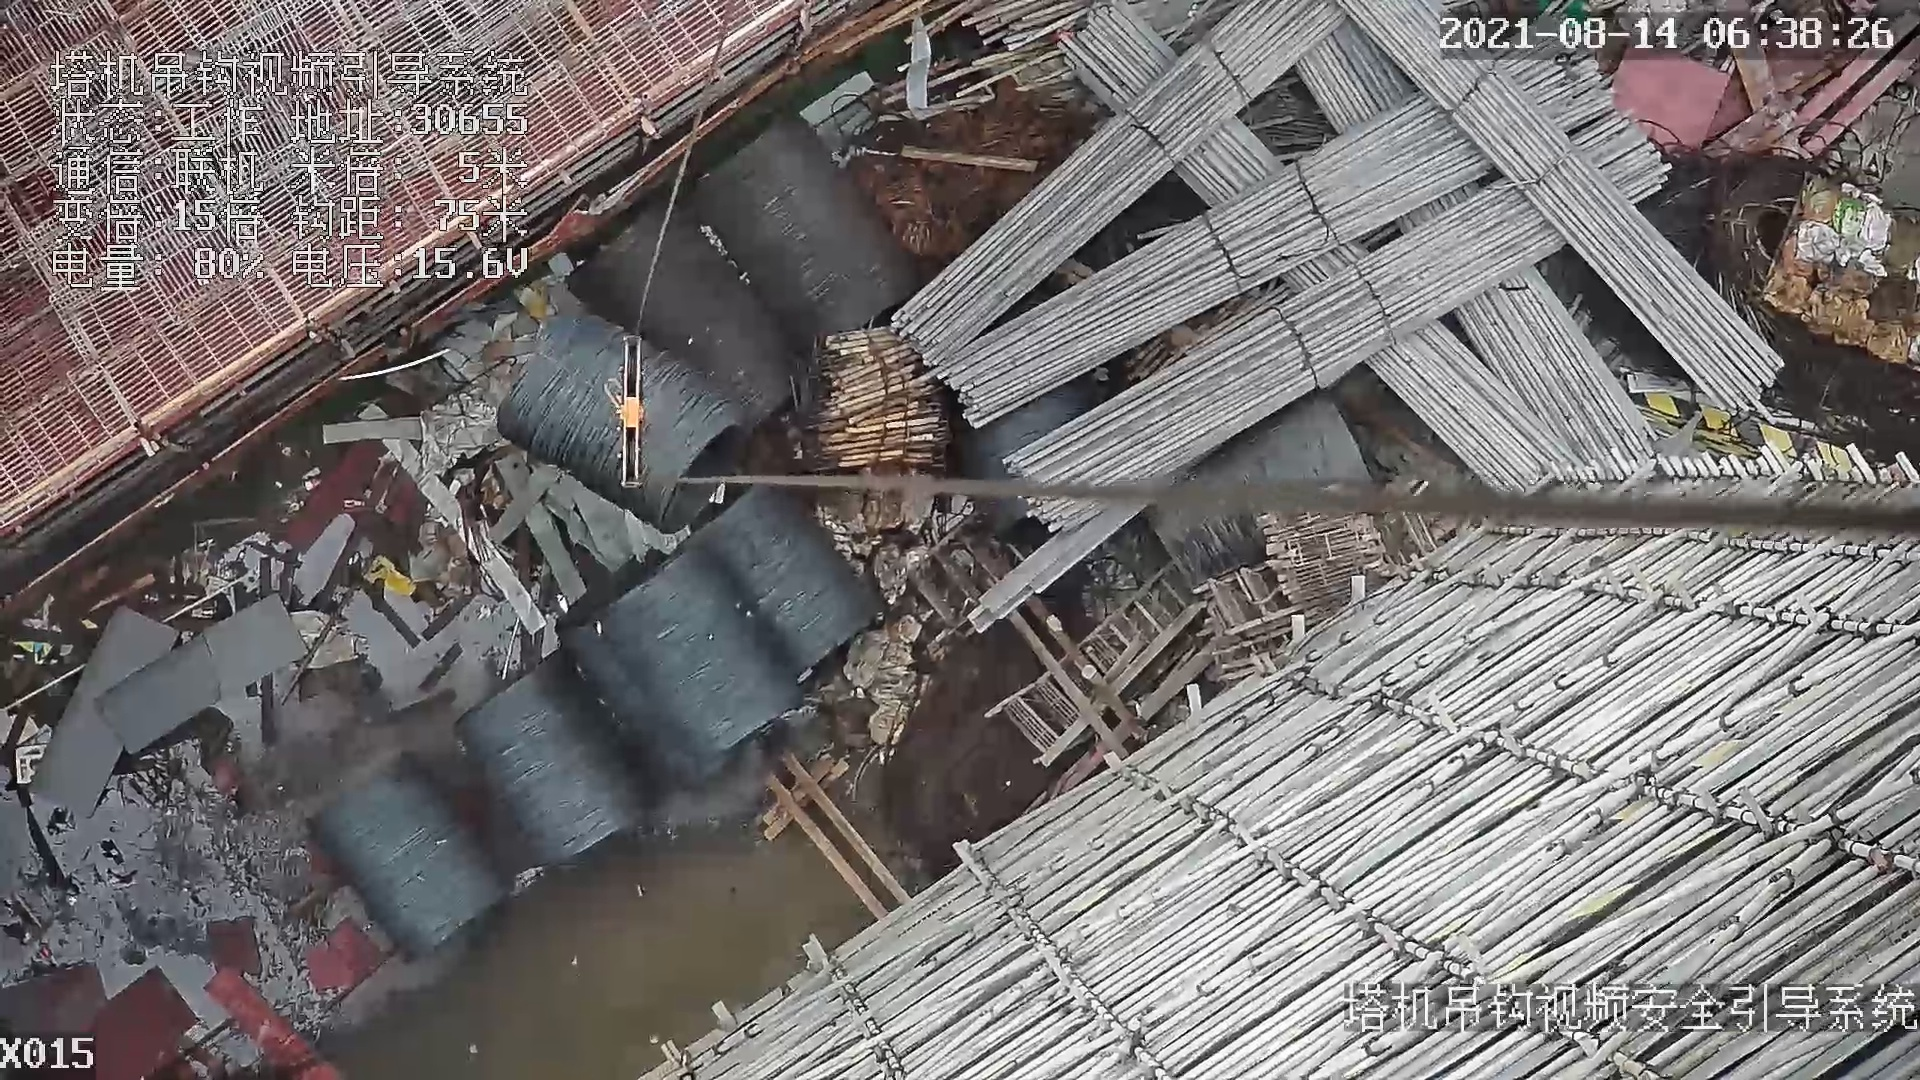hook: (597, 327, 649, 496)
